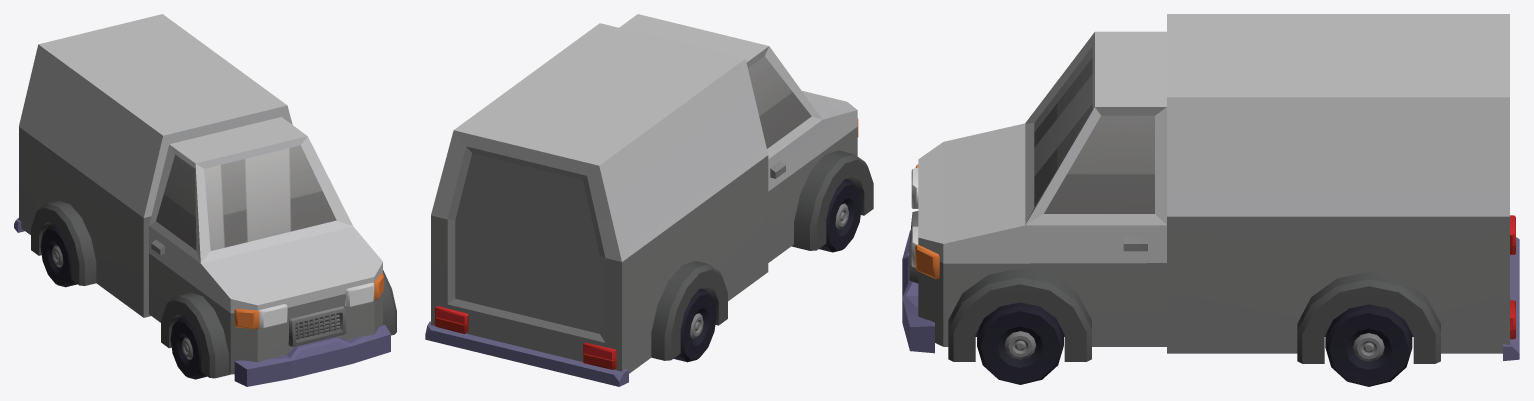
File: Van_7.fbx
3 renders of one model, left to right at view 1: azimuth 30°, elevation 25°; view 2: azimuth 150°, elevation 25°; view 3: azimuth 270°, elevation 25°, orthographic. The views are drawn at different scales.
Visible parts, largest first — view 1: Van_7, wheel_FR, wheel_BR; view 2: Van_7, wheel_BR, wheel_FR; view 3: Van_7, wheel_BL, wheel_FL.
Part boxes in pixels (x1=…): Van_7: x1=14, y1=14, x2=396, y2=386; wheel_FR: x1=170, y1=317, x2=207, y2=379; wheel_BR: x1=40, y1=224, x2=77, y2=287; Van_7: x1=425, y1=14, x2=873, y2=386; wheel_BR: x1=673, y1=289, x2=716, y2=362; wheel_FR: x1=819, y1=179, x2=861, y2=252; Van_7: x1=902, y1=14, x2=1519, y2=363; wheel_BL: x1=1325, y1=304, x2=1412, y2=386; wheel_FL: x1=977, y1=302, x2=1063, y2=384.
Bounding box in the file's own units: 123 × 119 × 248.
